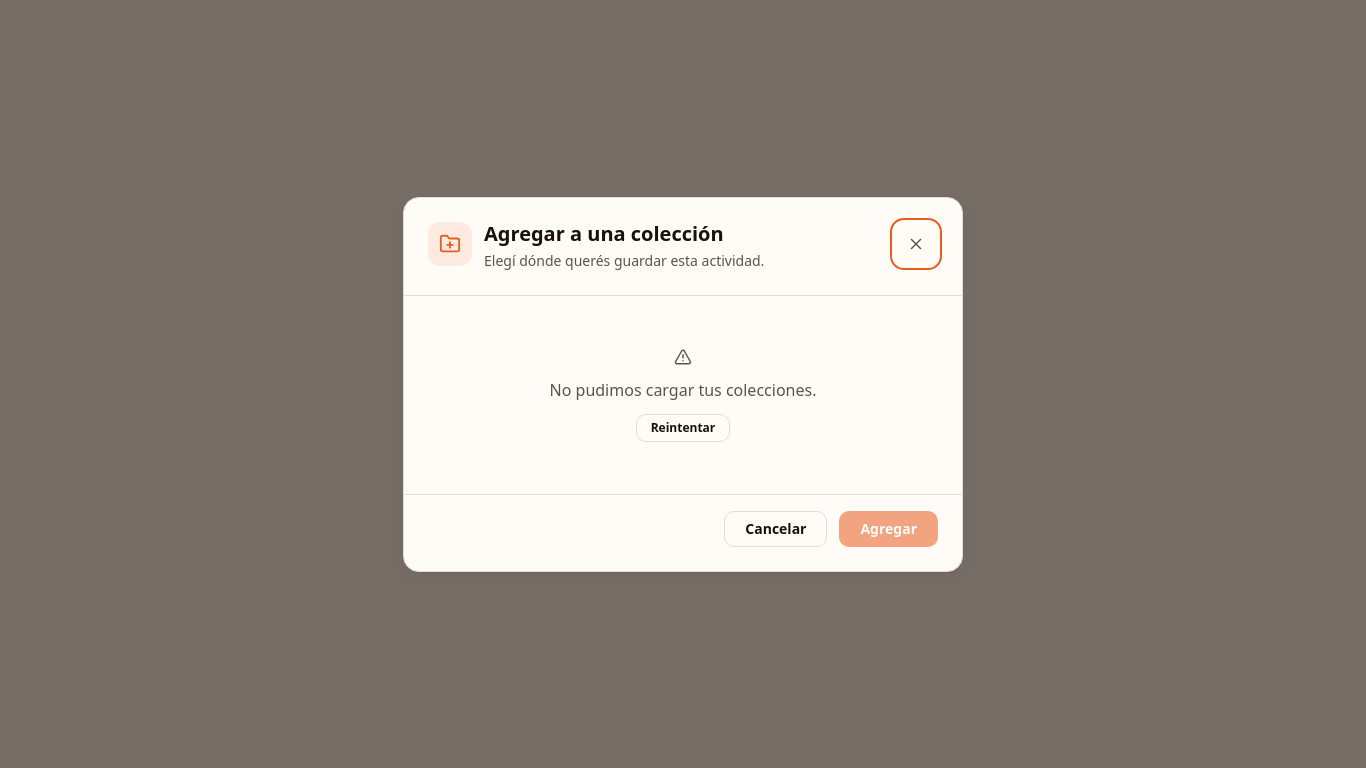
Test: AddToCollectionDialog › offers a retry when loading collections fails
The width and height of the screenshot is (1366, 768).
Expected: the text "No pudimos cargar tus colecciones." is shown, [550,378,816,402]
Click the button "Reintentar" at (683, 428), box [636,414,730,442]
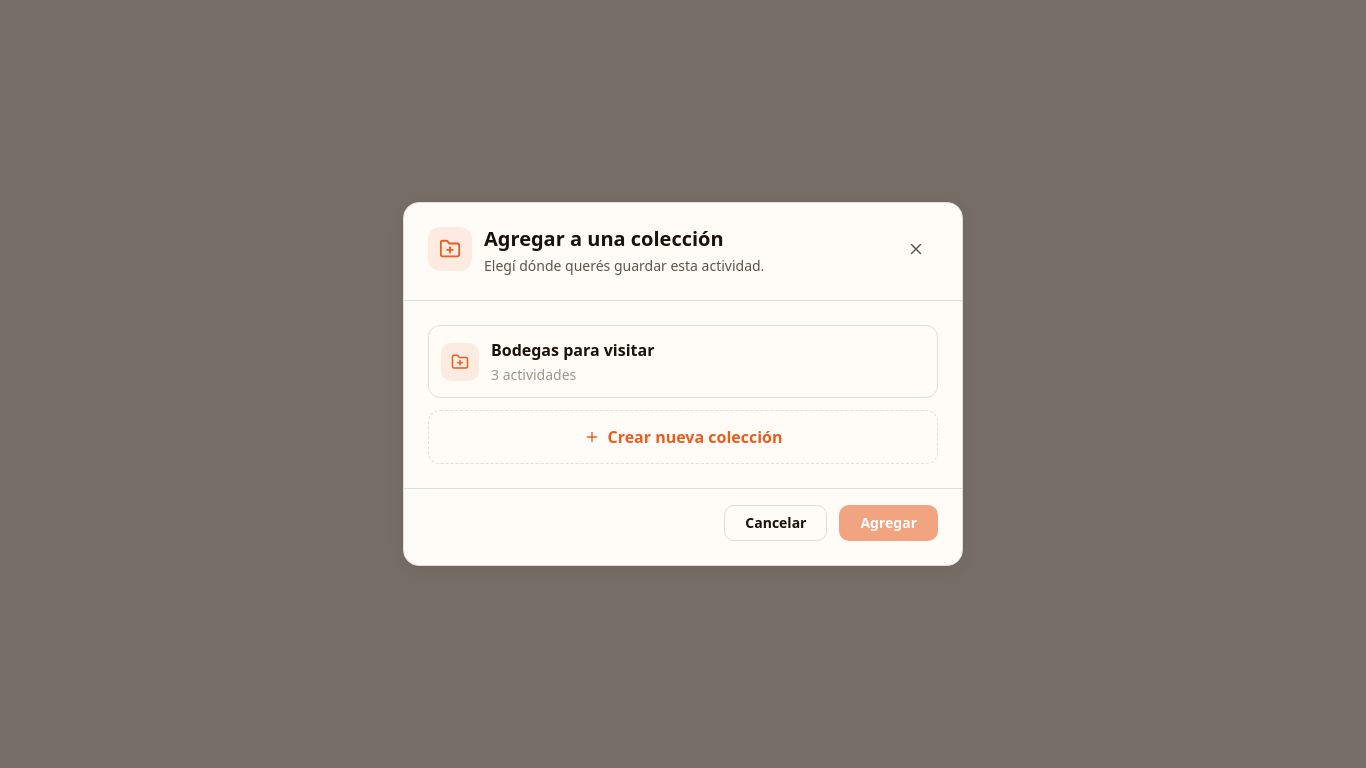
Expected: the text "Bodegas para visitar" is shown, [491,339,654,361]
